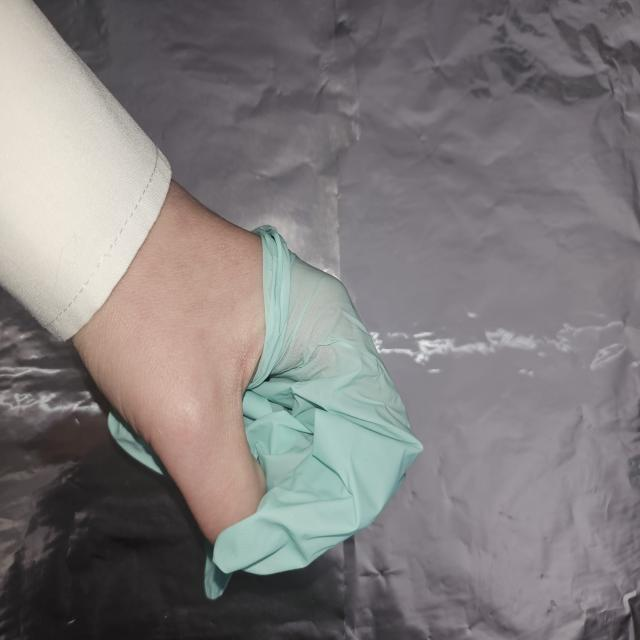glove_partial: (96, 176, 424, 601)
